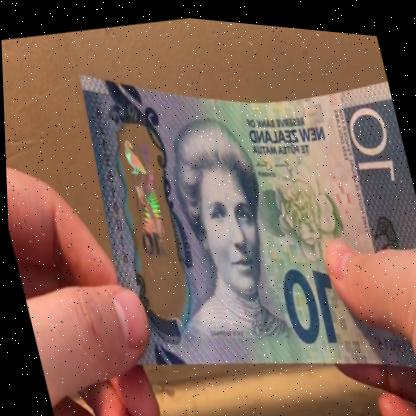10B: (110, 129, 185, 292)
